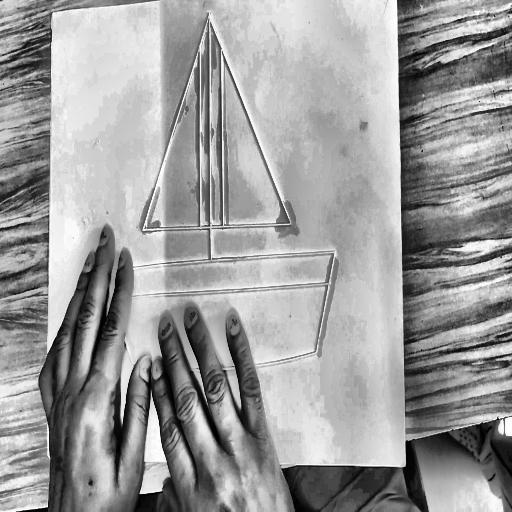boat: (98, 3, 341, 382)
bottom_left: (44, 447, 54, 463)
bottom_right: (401, 457, 410, 475)
top_left: (49, 8, 56, 20)
